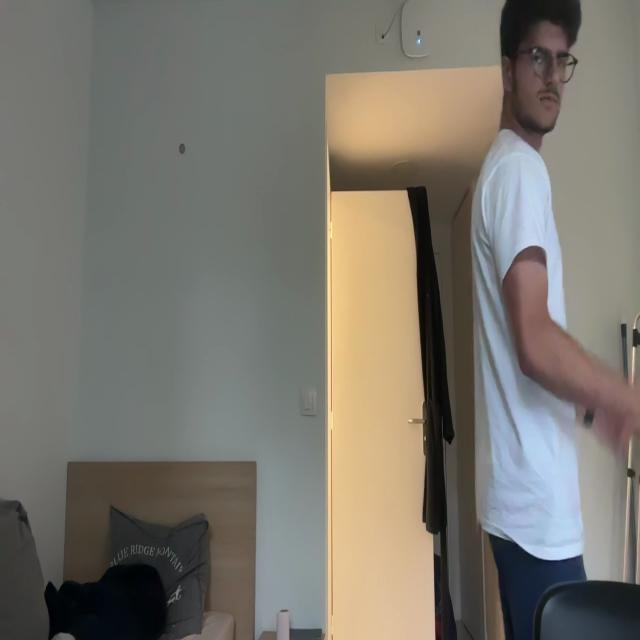elbow: (516, 318, 551, 377)
hand: (593, 409, 634, 458)
shoulder: (488, 151, 548, 238)
